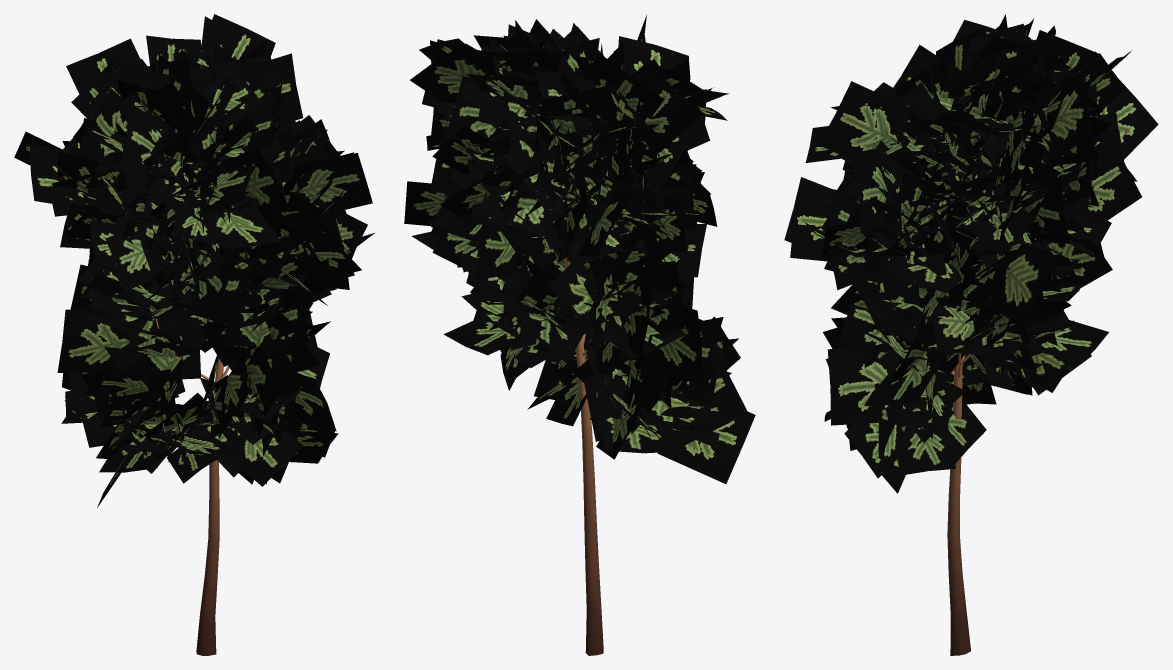
Rendered from borovice_mlada.glb.
The picture shows the model from 3 angles, left to right: view 1: azimuth 30°, elevation 25°; view 2: azimuth 150°, elevation 25°; view 3: azimuth 270°, elevation 25°; orthographic projection. The views are drawn at different scales.
Visible parts, largest first — view 1: borovice_mlada; view 2: borovice_mlada; view 3: borovice_mlada.
Part boxes in pixels (left/top/right/bottom): borovice_mlada: left=14, top=14, right=374, bottom=655; borovice_mlada: left=404, top=15, right=755, bottom=655; borovice_mlada: left=784, top=14, right=1158, bottom=655.
Size of the model in its own units: 4.25 by 8.65 by 4.75.
2 materials, 2 textured.
